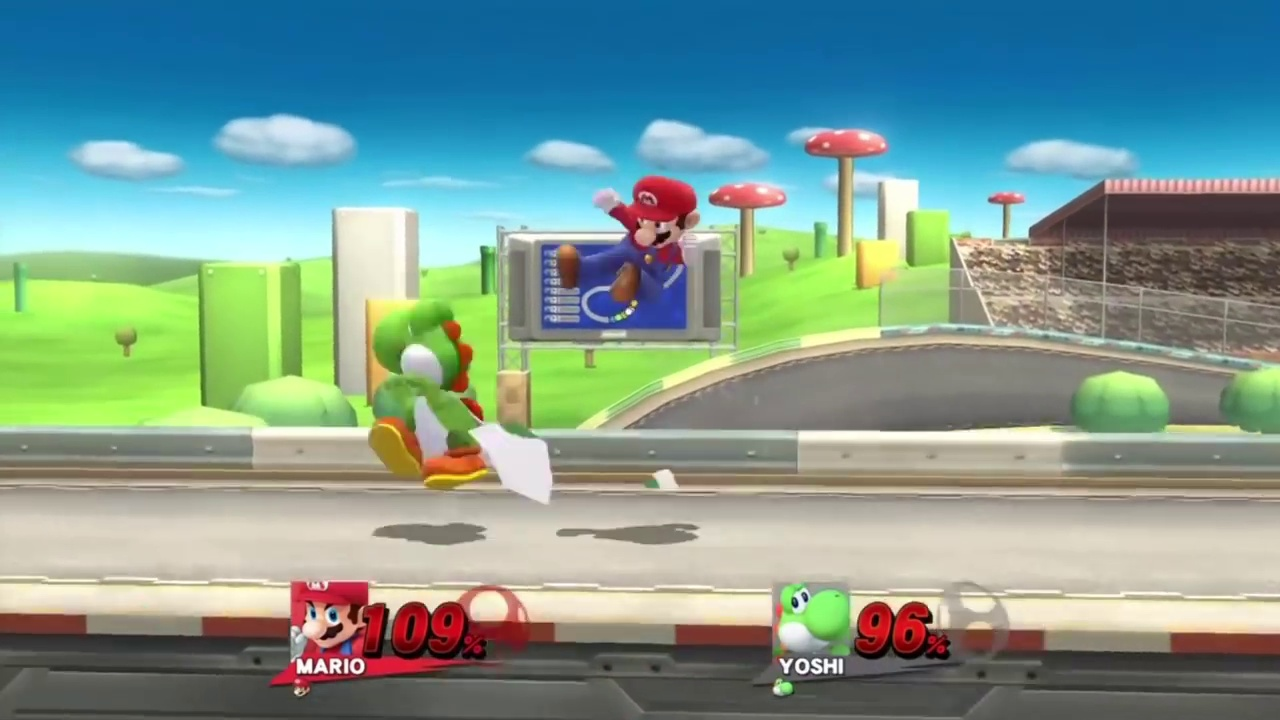Mario: (555, 176, 701, 306)
